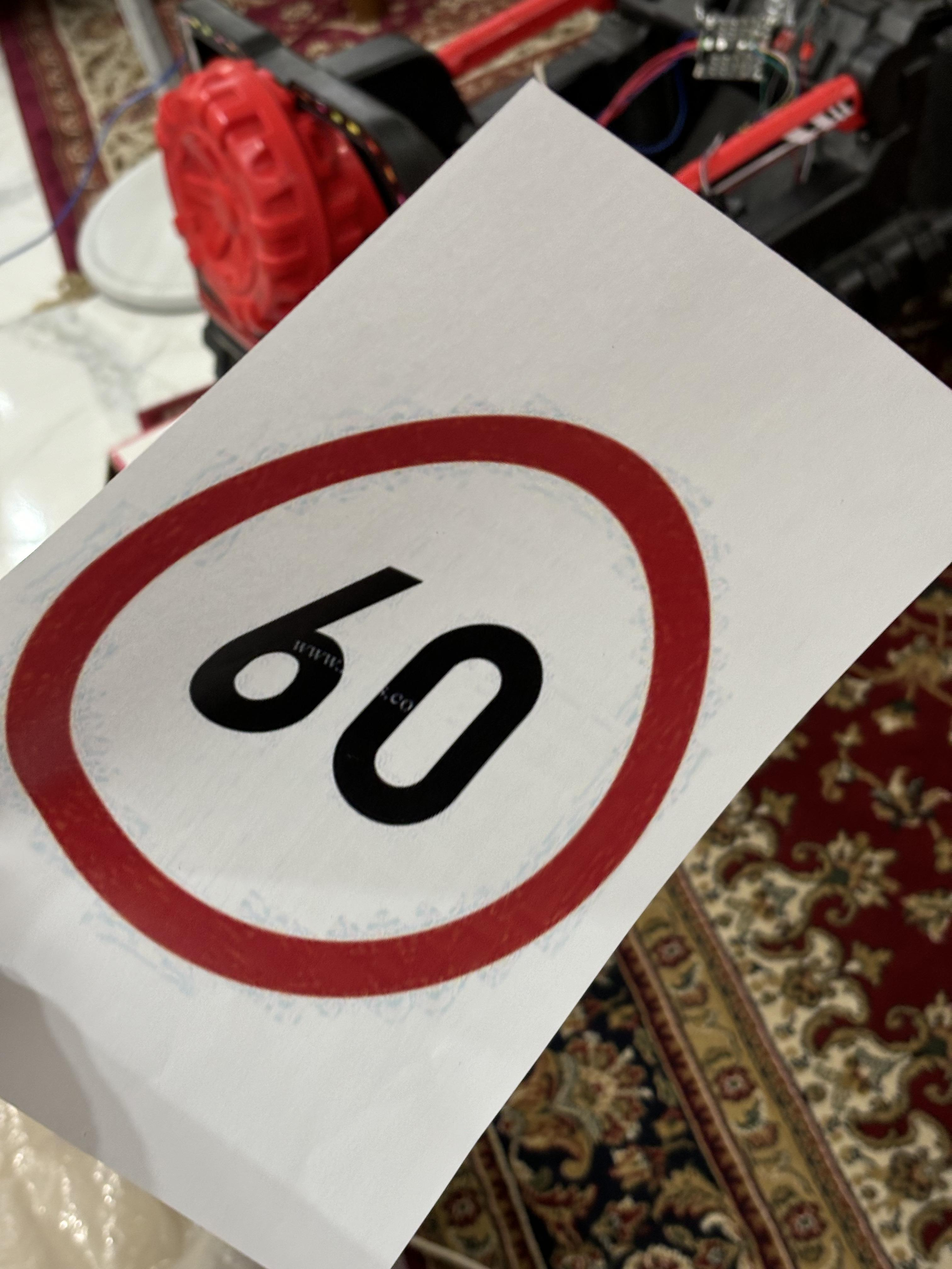60-Speed: (10, 410, 737, 996)
